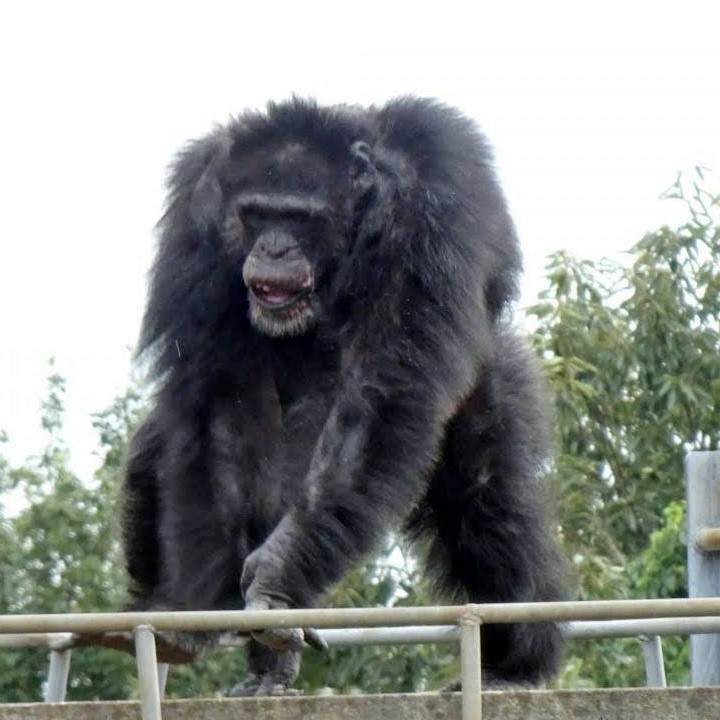Chimpanzee: (138, 118, 512, 589)
